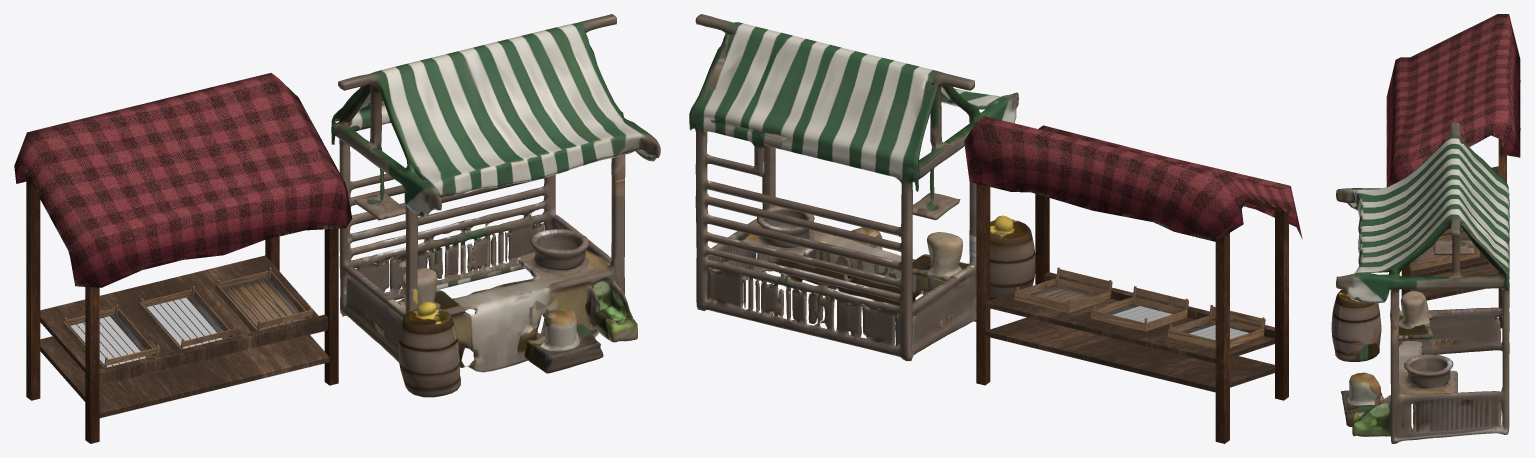
Rendered from market2.fbx.
The picture shows the model from 3 angles, left to right: view 1: azimuth 30°, elevation 25°; view 2: azimuth 150°, elevation 25°; view 3: azimuth 270°, elevation 25°; orthographic projection. The views are drawn at different scales.
Visible parts, largest first — view 1: BaseBody_01, model; view 2: model, BaseBody_01; view 3: model, BaseBody_01.
Boxes of the visible parts, bbox=[...] form: BaseBody_01: bbox=[14, 73, 352, 443]; model: bbox=[331, 14, 660, 397]; model: bbox=[689, 14, 1035, 361]; BaseBody_01: bbox=[964, 116, 1302, 443]; model: bbox=[1331, 122, 1509, 443]; BaseBody_01: bbox=[1386, 14, 1520, 328].
Bounding box in the file's own units: 1347 × 658 × 470.
